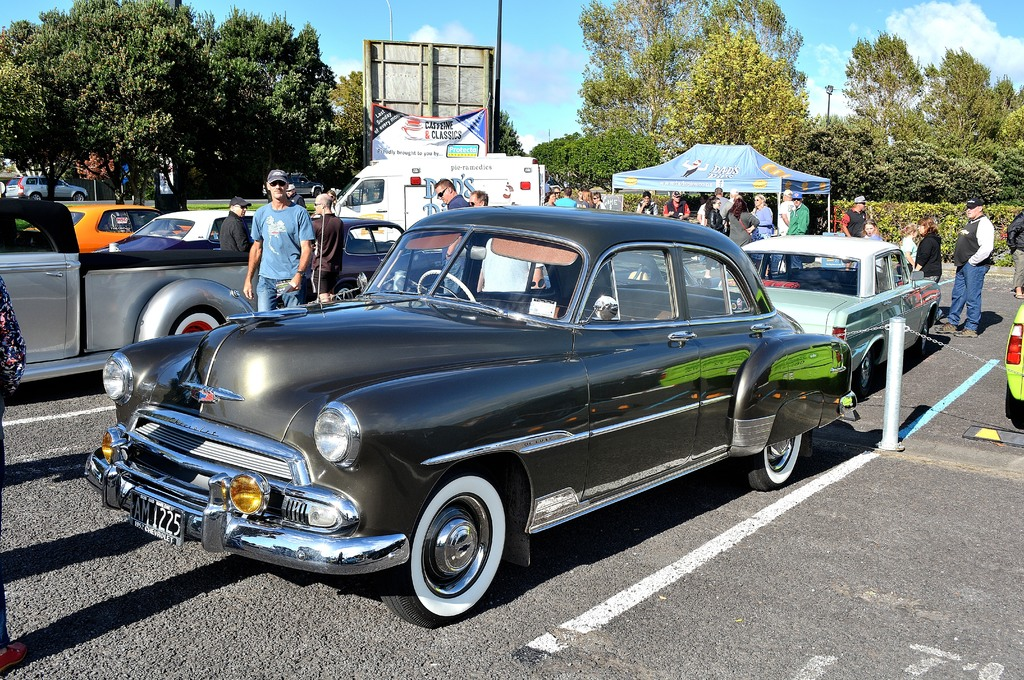Car: (90, 220, 913, 620), (0, 175, 403, 388), (744, 229, 944, 393), (1004, 301, 1023, 404)
